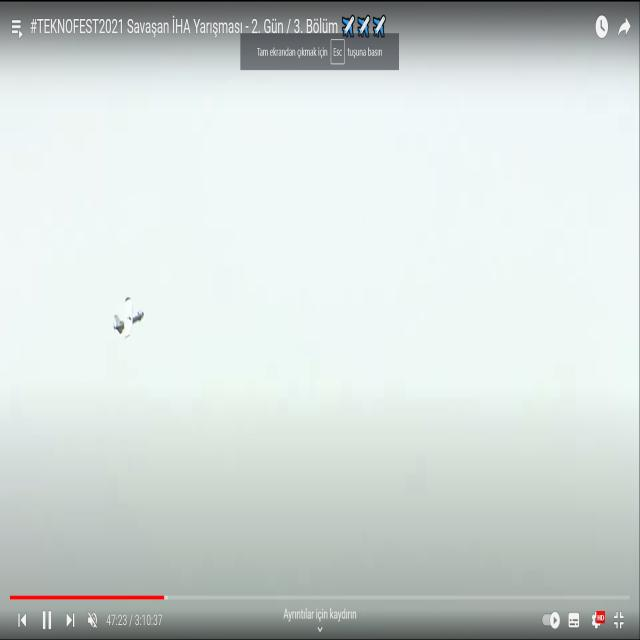iha: (111, 293, 146, 341)
